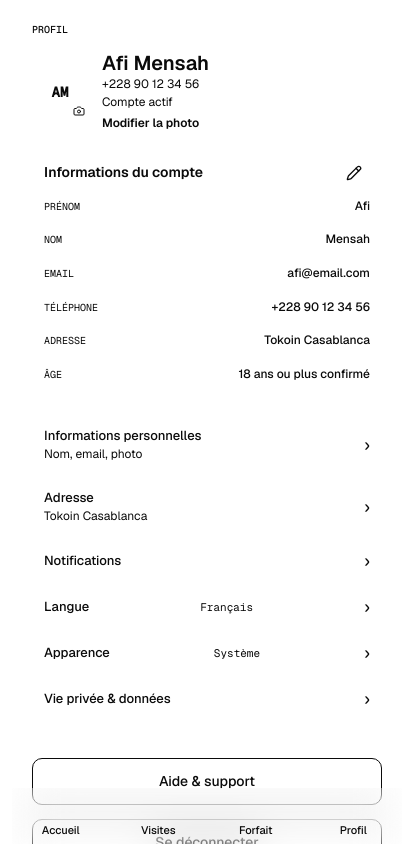
Test: Subscriber profile · X-24 › edits the account name and email, then reflects them on the profile page
Step 1. Click the button "Informations personnelles Nom, email, photo ›" → coordinates (123, 436), box [32,414,382,476]
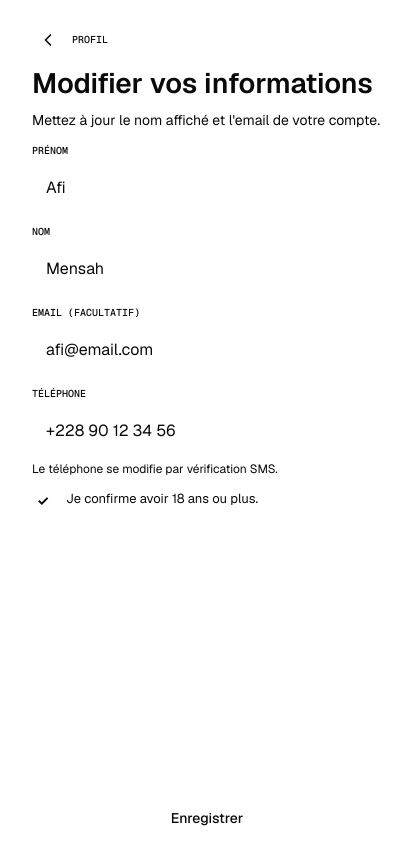
Now the heading "Modifier vos informations" is shown, box [32,68,382,98]
Step 2. Type "Ama" into the field labelled "PRÉNOM" → coordinates (207, 188), box [32,164,382,212]
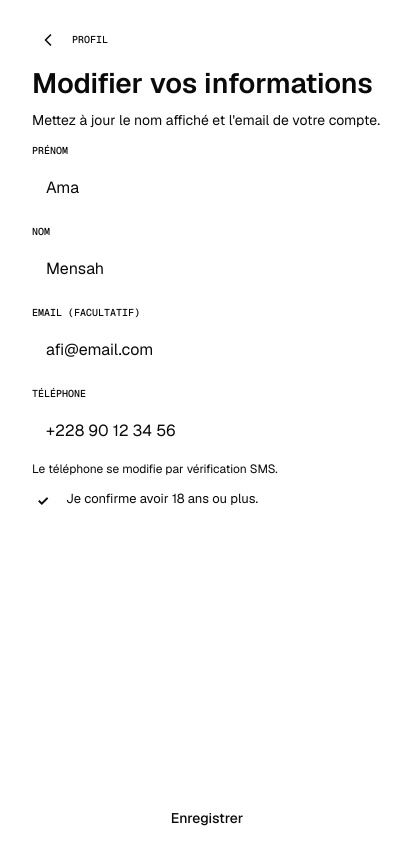
Step 3. Type "Koffi" into the field labelled "NOM" → coordinates (207, 269), box [32,245,382,293]
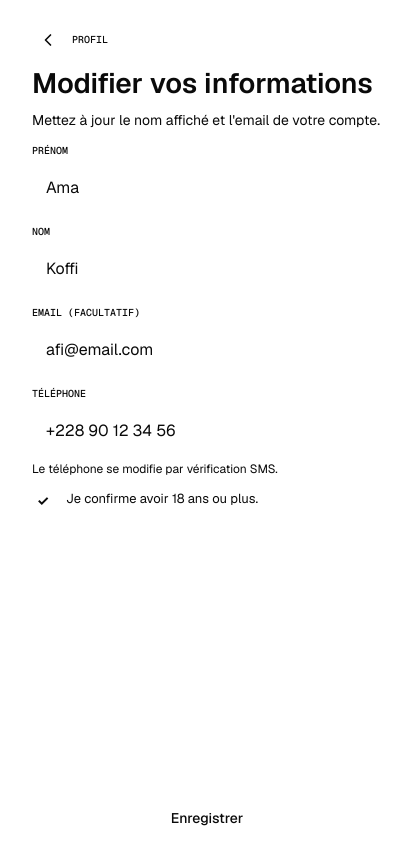
Step 4. Type "ama@email.com" into the field labelled "EMAIL (FACULTATIF)" → coordinates (207, 350), box [32,326,382,374]
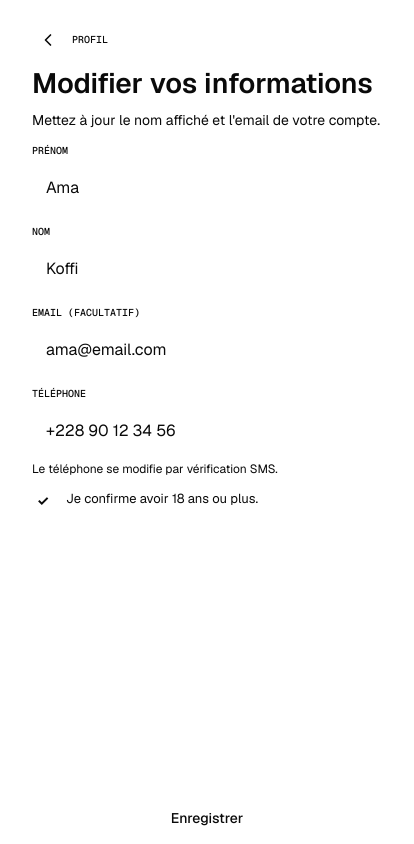
Step 5. Click the button "Enregistrer" → coordinates (207, 818), box [32,793,382,843]
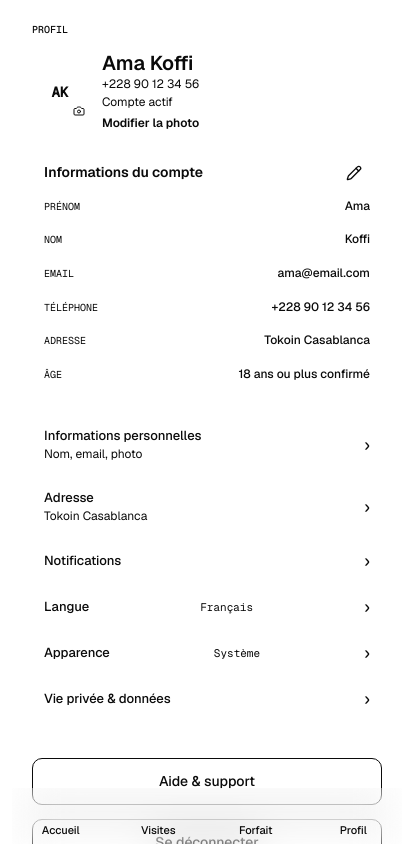
Now the heading "Ama Koffi" is shown, box [102,50,194,76]
Now the text "ama@email.com" is shown, box [278,266,370,282]
